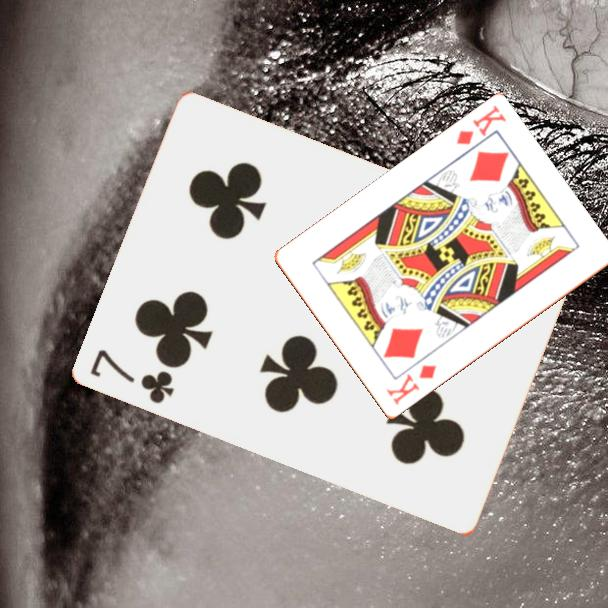c07: (87, 345, 178, 407)
d13: (382, 361, 439, 409), (452, 102, 509, 148)
